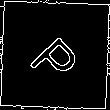P_NE: (24, 24, 86, 86)
